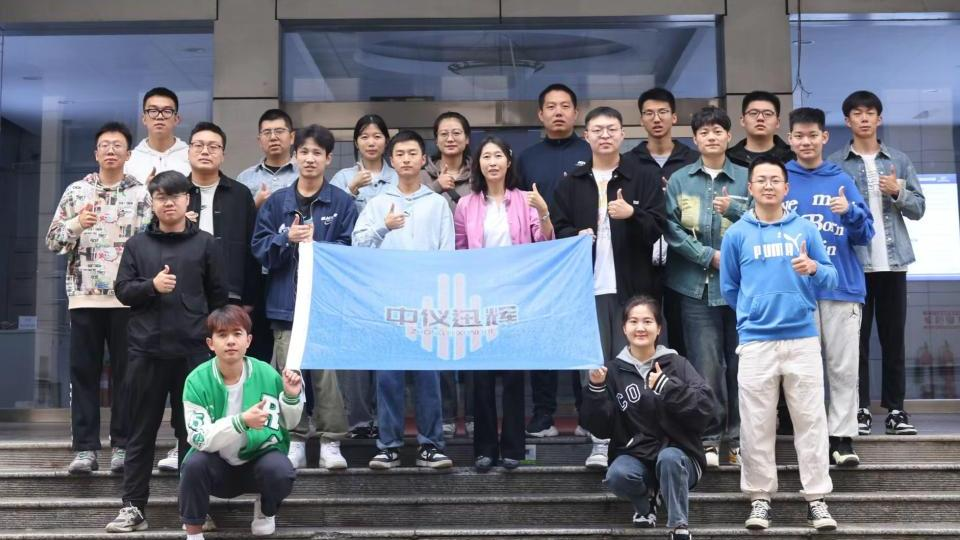persion: (748, 166, 792, 208), (150, 181, 191, 226), (538, 90, 578, 136), (620, 307, 663, 349), (740, 97, 782, 140), (789, 122, 831, 164), (206, 330, 254, 366), (140, 97, 182, 138), (585, 112, 628, 152), (640, 95, 678, 140), (188, 127, 225, 172), (93, 133, 135, 172), (257, 118, 297, 157), (295, 138, 330, 182), (693, 126, 733, 161), (434, 116, 468, 157), (390, 142, 426, 180), (478, 142, 509, 184), (846, 105, 884, 139), (358, 122, 388, 161)
